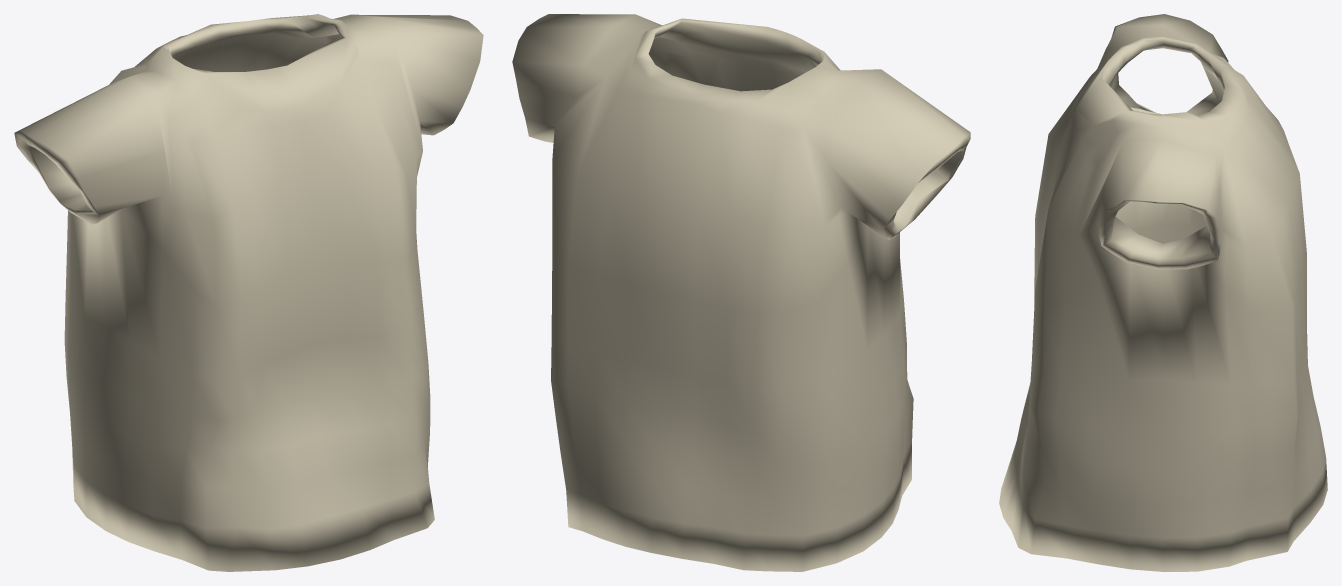
The model's file is shirt.fbx.
3 renders of one model, left to right at view 1: azimuth 30°, elevation 25°; view 2: azimuth 150°, elevation 25°; view 3: azimuth 270°, elevation 25°, orthographic. The views are drawn at different scales.
Parts seen in each view (by area): view 1: Shirt; view 2: Shirt; view 3: Shirt.
Part boxes in pixels (<box>): Shirt: <box>14,14,483,571</box>; Shirt: <box>512,14,970,571</box>; Shirt: <box>999,14,1327,571</box>.
Size of the model in its own units: 3.31 by 3.35 by 2.31.
